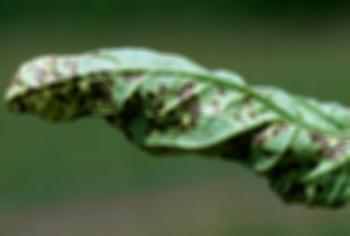Tomato leaf bacterial spot: (4, 44, 347, 213)
